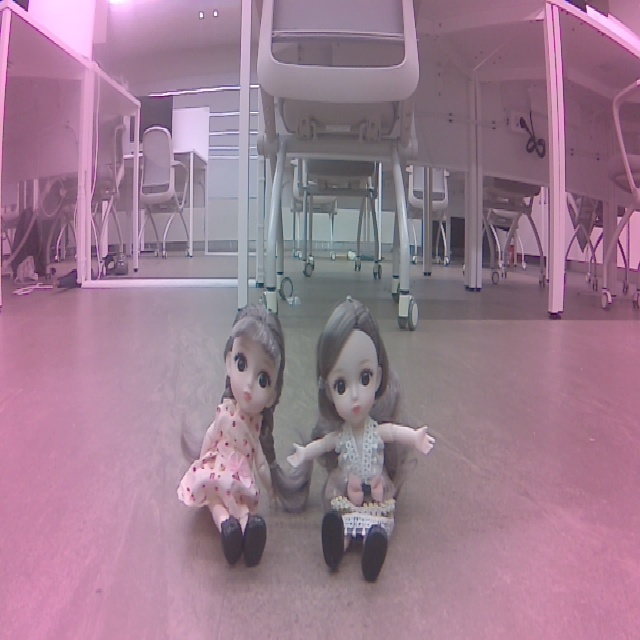장애물: (168, 290, 294, 572)
